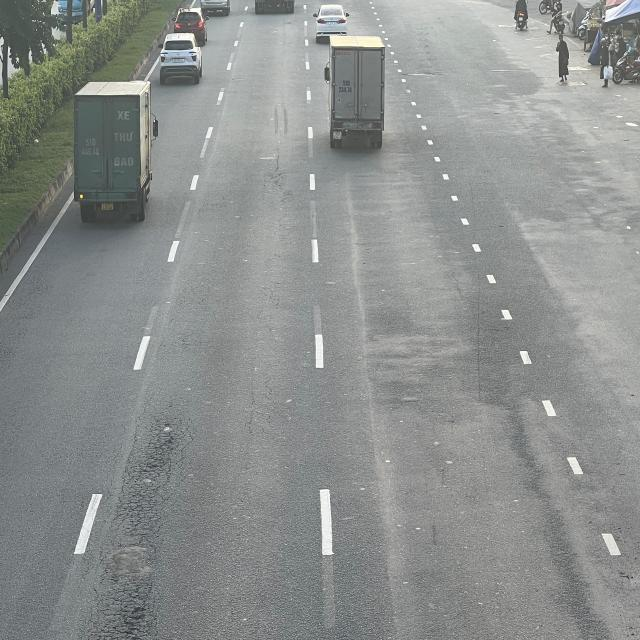car: (161, 35, 208, 86), (316, 3, 353, 40), (172, 8, 209, 43)
truck: (75, 81, 162, 222), (324, 35, 387, 148)
